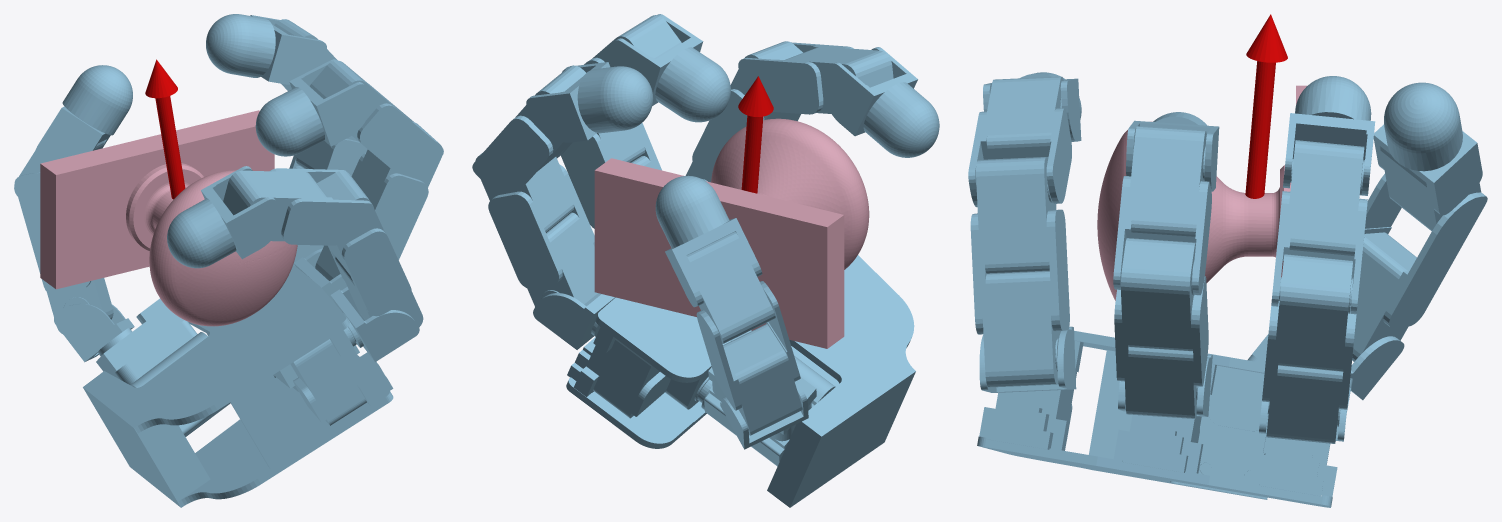
The picture shows the model from 3 angles, left to right: view 1: azimuth 30°, elevation 25°; view 2: azimuth 150°, elevation 25°; view 3: azimuth 270°, elevation 25°; orthographic projection. The views are drawn at different scales.
Parts seen in each view (by area): view 1: world, door_knob.stl; view 2: world, door_knob.stl; view 3: world, door_knob.stl.
Part boxes in pixels (x1,y1,x2,y2): world: [14, 14, 443, 507]; door_knob.stl: [40, 110, 297, 326]; world: [472, 14, 939, 507]; door_knob.stl: [594, 118, 869, 348]; world: [968, 14, 1487, 507]; door_knob.stl: [1097, 85, 1307, 300].
Size of the model in its own units: 0.1489 by 0.1748 by 0.1635.
